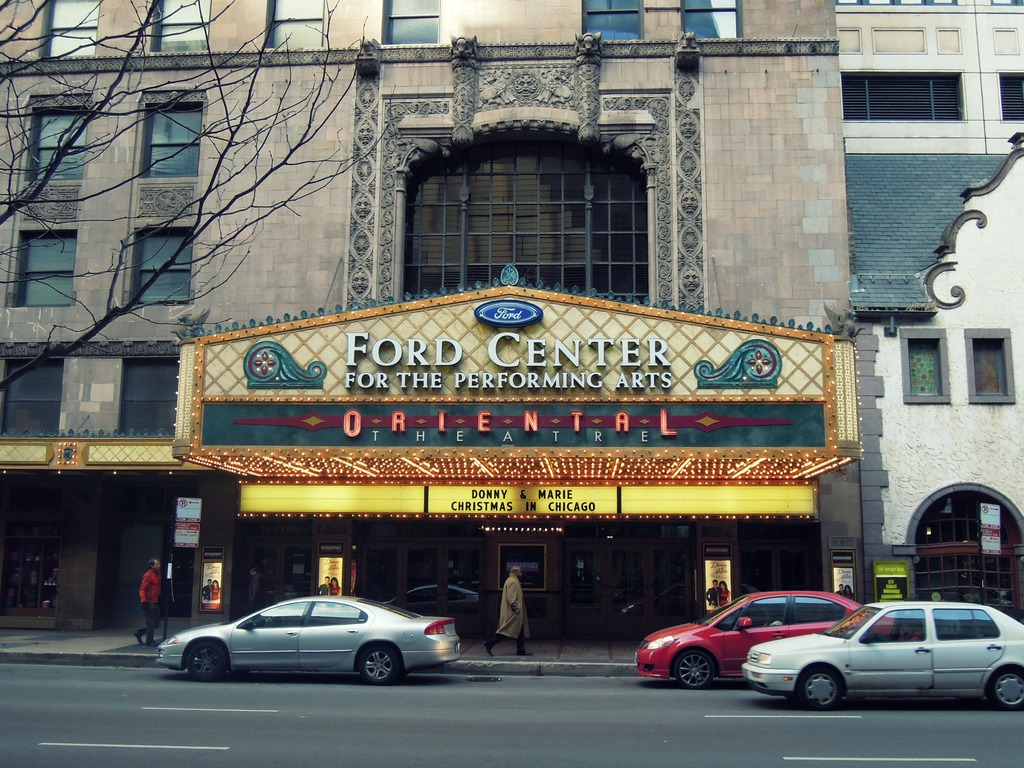Wheel: (795, 662, 848, 712), (181, 636, 236, 680), (361, 638, 402, 685), (986, 664, 1023, 710), (673, 648, 709, 688)
